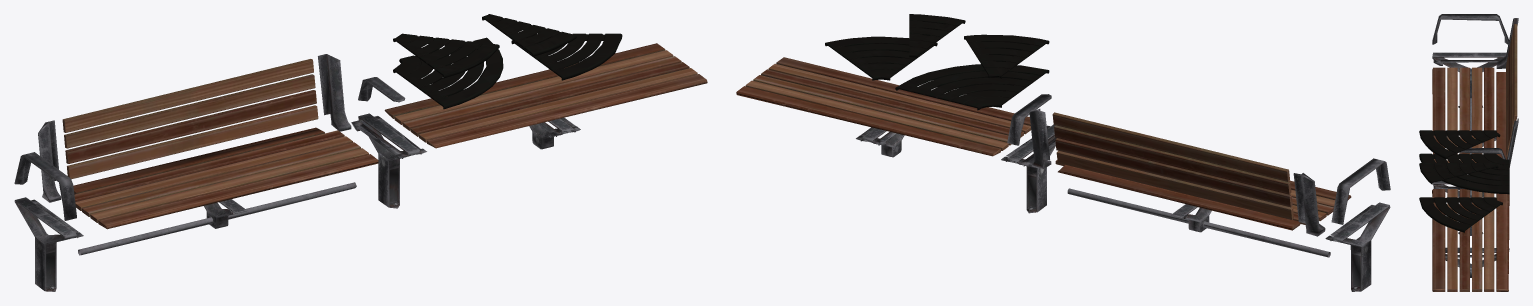
The model's file is banco.glb.
3 views of the same model, side by side, from view 1: azimuth 30°, elevation 25°; view 2: azimuth 150°, elevation 25°; view 3: azimuth 270°, elevation 25° (orthographic). The views are drawn at different scales.
Parts seen in each view (by area): view 1: seat, connector_60, legs_double, crossbar; view 2: seat, connector_60, crossbar, legs_double; view 3: seat, connector_60, legs_double, crossbar.
Boxes of the visible parts, <box> form: seat: <box>62,43,707,229</box>; connector_60: <box>393,14,622,109</box>; legs_double: <box>14,113,580,291</box>; crossbar: <box>14,54,405,255</box>; seat: <box>736,57,1351,230</box>; connector_60: <box>825,14,1049,110</box>; crossbar: <box>1007,94,1390,257</box>; legs_double: <box>856,124,1390,291</box>; seat: <box>1432,24,1517,291</box>; connector_60: <box>1419,130,1509,232</box>; legs_double: <box>1432,52,1509,277</box>; crossbar: <box>1432,14,1518,195</box>.
Size of the model in its own units: 4.34 by 0.9499 by 0.7703.
4 materials, 4 textured.
